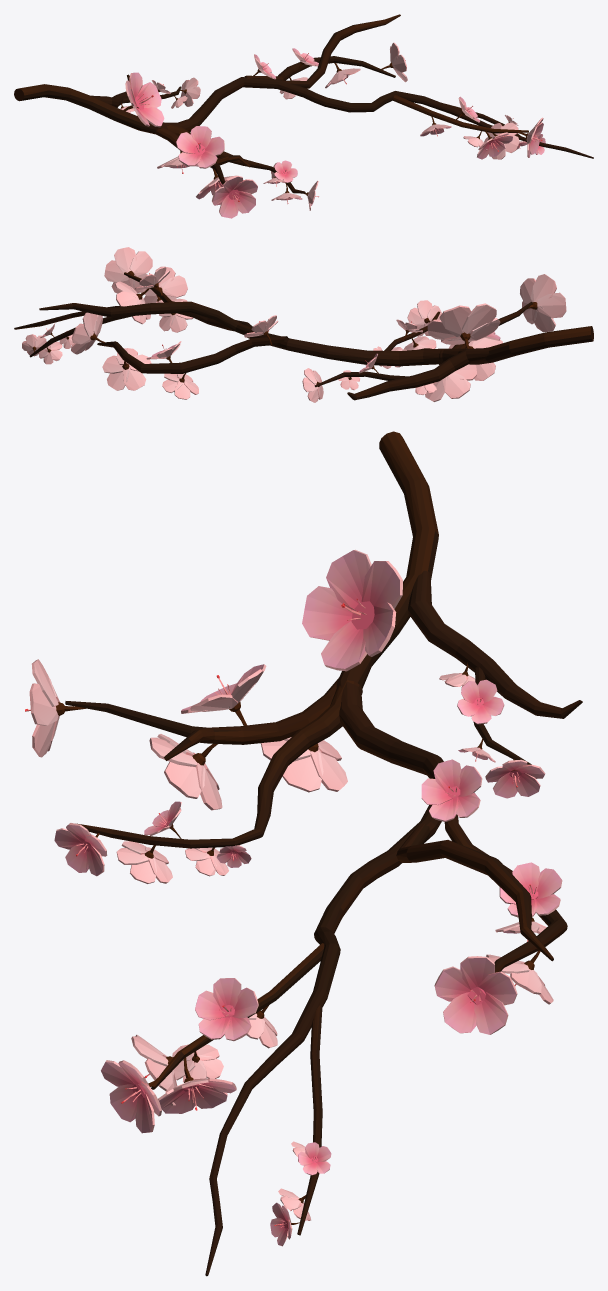
The model's file is CHERRY BLOSSOM BRANCHRIGHT..fbx.
3 renders of one model, top to bottom at view 1: azimuth 30°, elevation 25°; view 2: azimuth 150°, elevation 25°; view 3: azimuth 270°, elevation 25°, orthographic. The views are drawn at different scales.
Visible parts, largest first — view 1: cherry_blossom_flowers, cherryblossombranch; view 2: cherry_blossom_flowers, cherryblossombranch; view 3: cherry_blossom_flowers, cherryblossombranch.
Part boxes in pixels (<box>): cherry_blossom_flowers: <box>120,42,545,218</box>; cherryblossombranch: <box>14,14,593,193</box>; cherry_blossom_flowers: <box>22,247,566,402</box>; cherryblossombranch: <box>14,272,593,400</box>; cherry_blossom_flowers: <box>25,549,562,1246</box>; cherryblossombranch: <box>65,431,582,1276</box>.
Size of the model in its own units: 56.44 by 16.85 by 25.69.
